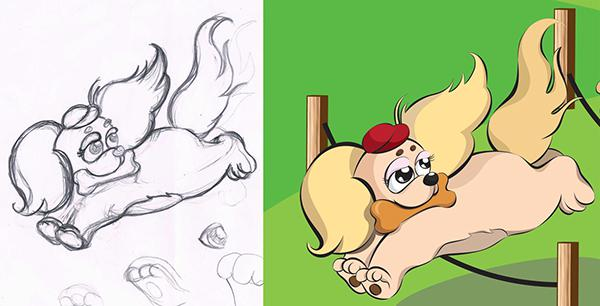dog: (276, 10, 600, 303), (5, 20, 244, 260)
